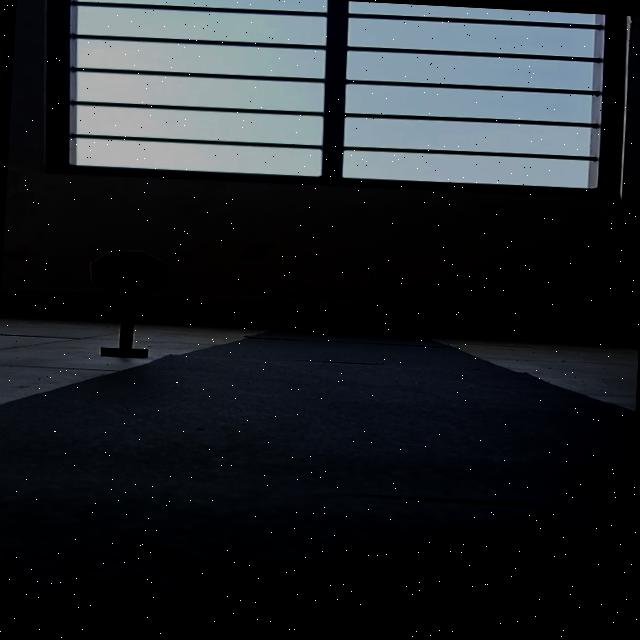Stop: (88, 248, 170, 298)
